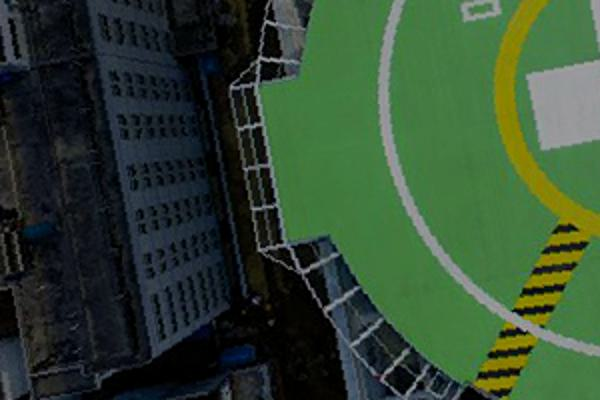Apron: (488, 4, 600, 223)
